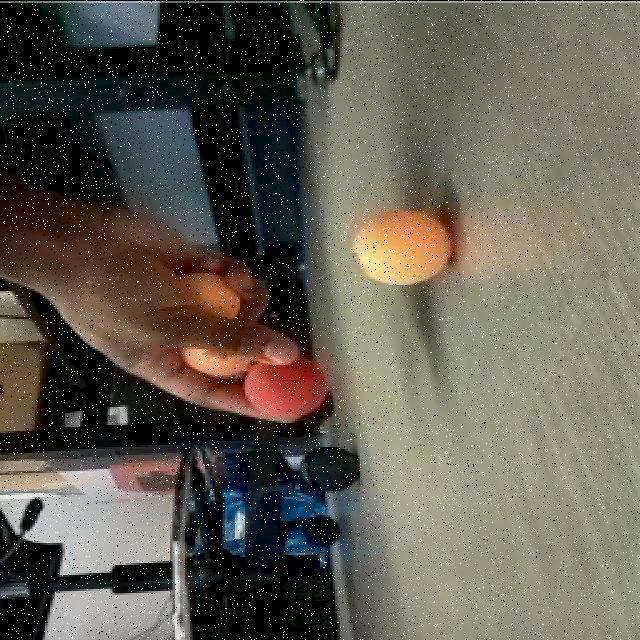ping-pong-ball: (346, 206, 458, 286), (238, 352, 330, 421), (170, 270, 243, 322), (180, 331, 256, 376)
